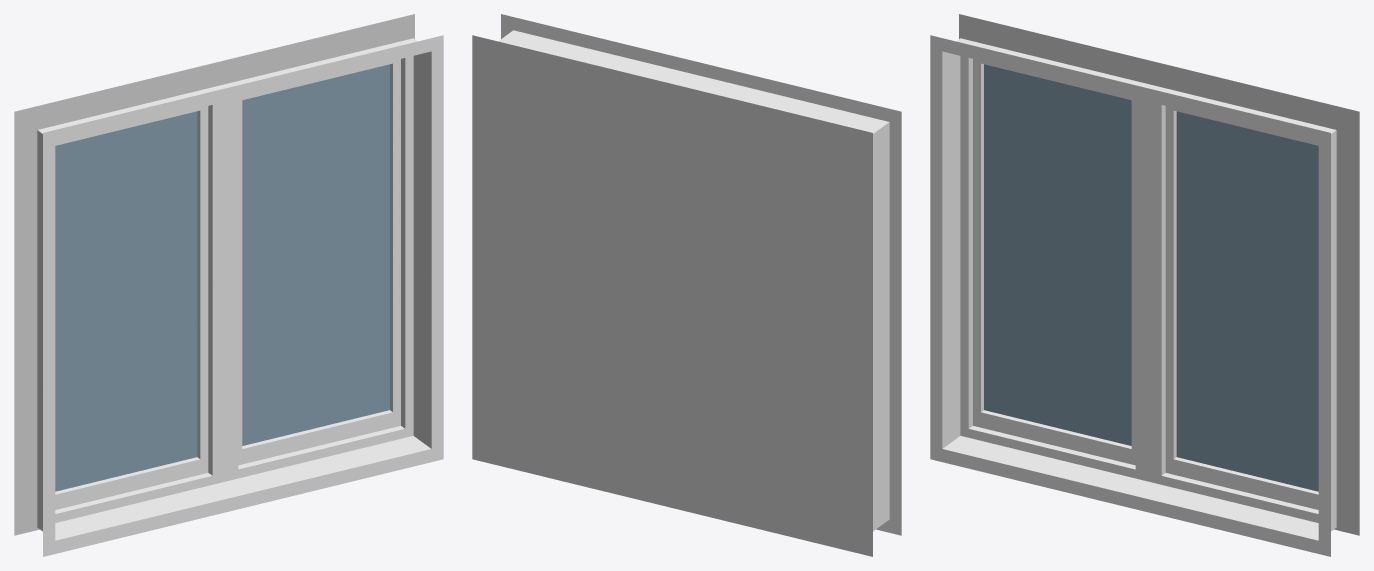
The model's file is window-stairs-2p-i209a-1.fbx.
3 renders of one model, left to right at view 1: azimuth 30°, elevation 25°; view 2: azimuth 150°, elevation 25°; view 3: azimuth 330°, elevation 25°, orthographic.
Visible parts, largest first — view 1: window-stairs-2p-i209a-1; view 2: window-stairs-2p-i209a-1; view 3: window-stairs-2p-i209a-1.
Part boxes in pixels (x1=…): window-stairs-2p-i209a-1: x1=14, y1=14, x2=443, y2=556; window-stairs-2p-i209a-1: x1=472, y1=14, x2=901, y2=556; window-stairs-2p-i209a-1: x1=930, y1=14, x2=1359, y2=556.
Bounding box in the file's own units: 140 × 142 × 17.56.
